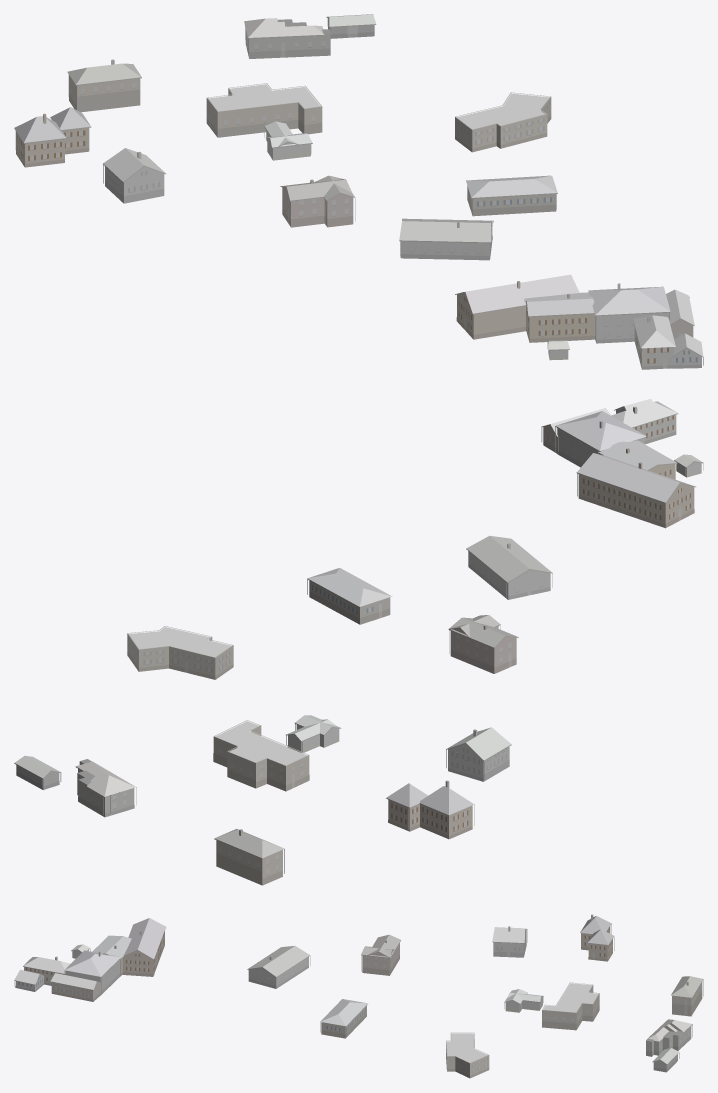
The picture shows the model from 3 angles, top to bottom: view 1: azimuth 30°, elevation 25°; view 2: azimuth 150°, elevation 25°; view 3: azimuth 270°, elevation 25°; orthographic projection. The views are drawn at different scales.
Parts seen in each view (by area): view 1: bld; view 2: bld; view 3: bld.
Part boxes in pixels (box(x1,y1,x2,y2)): bld: box(14, 14, 703, 369); bld: box(14, 399, 703, 885); bld: box(14, 914, 703, 1078).
Bounding box in the file's own units: 121 × 31.24 × 244.
